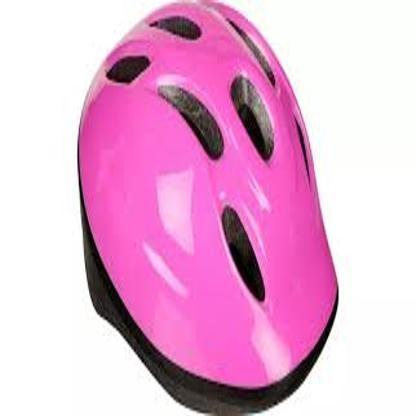not trash: (70, 0, 346, 416)
